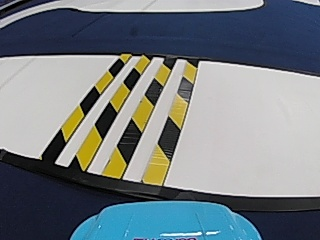bump: (38, 59, 200, 165)
